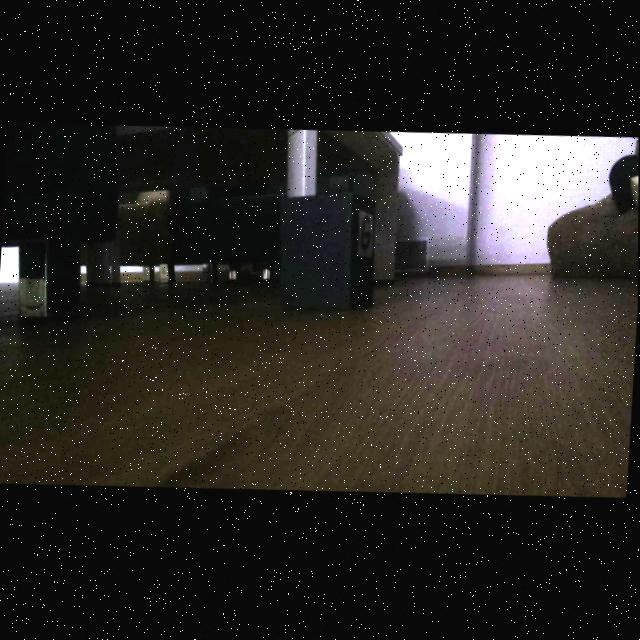G: (361, 218, 372, 253)
